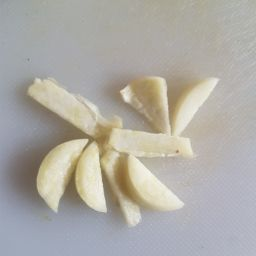Garlic cloves: (102, 150, 190, 237), (22, 72, 125, 141), (35, 134, 89, 218), (118, 69, 176, 138), (106, 124, 201, 162), (71, 136, 113, 221), (174, 67, 222, 139)
